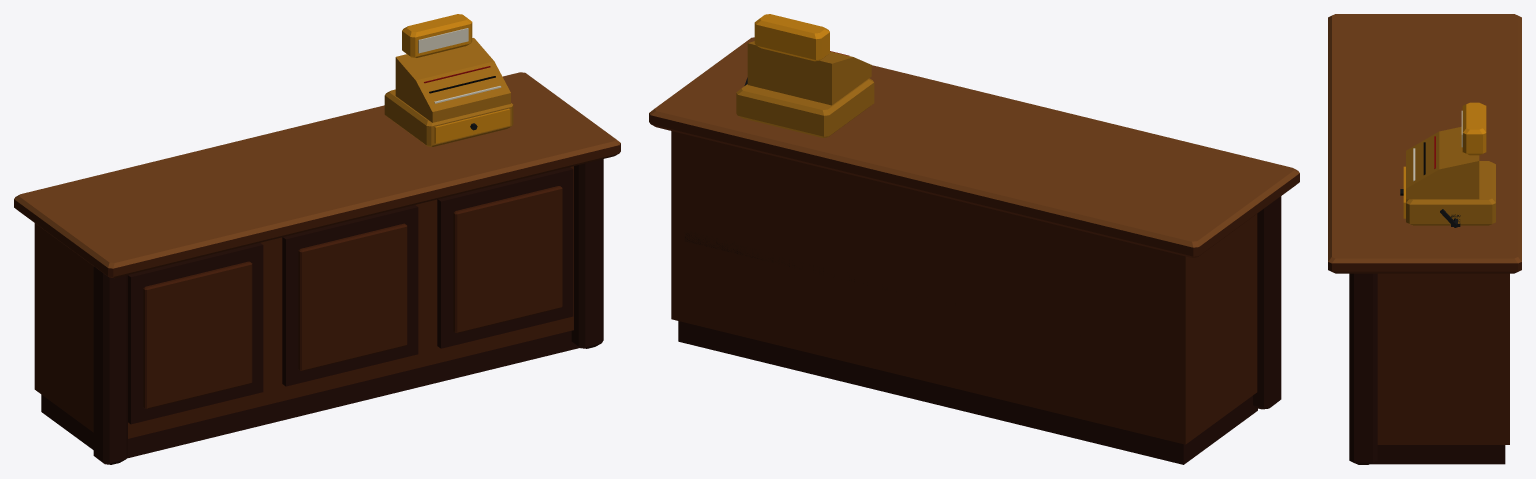
The model's file is SM_Shop_SalesCounter.glb.
3 renders of one model, left to right at view 1: azimuth 30°, elevation 25°; view 2: azimuth 150°, elevation 25°; view 3: azimuth 270°, elevation 25°, orthographic. The views are drawn at different scales.
Visible parts, largest first — view 1: SM_Shop_SalesCounter; view 2: SM_Shop_SalesCounter; view 3: SM_Shop_SalesCounter.
Part boxes in pixels (x1,y1,x2,y2): SM_Shop_SalesCounter: (14, 14, 620, 464); SM_Shop_SalesCounter: (649, 14, 1299, 464); SM_Shop_SalesCounter: (1328, 14, 1521, 464).
Bounding box in the file's own units: 2.48 × 1.42 × 0.82.
Materials: 1 (1 with a texture image).
